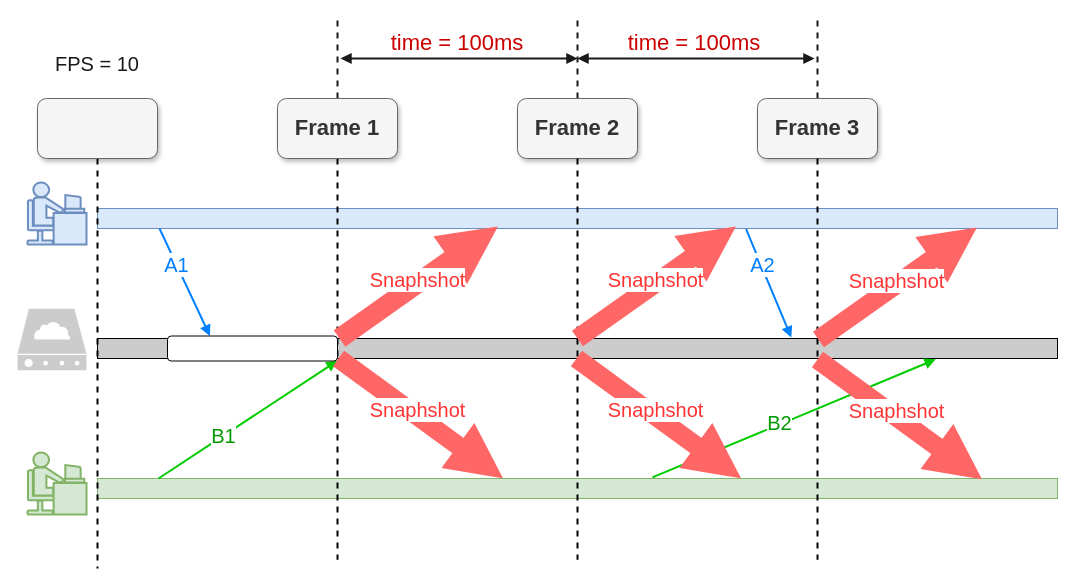
Image size: 1075x587. Some labels were removed from this diagram. The centre of each missing label's shape, as x and y in pixels:
"Create Snaphsot" goes at (x=252, y=348).
"Init" goes at (x=98, y=130).
